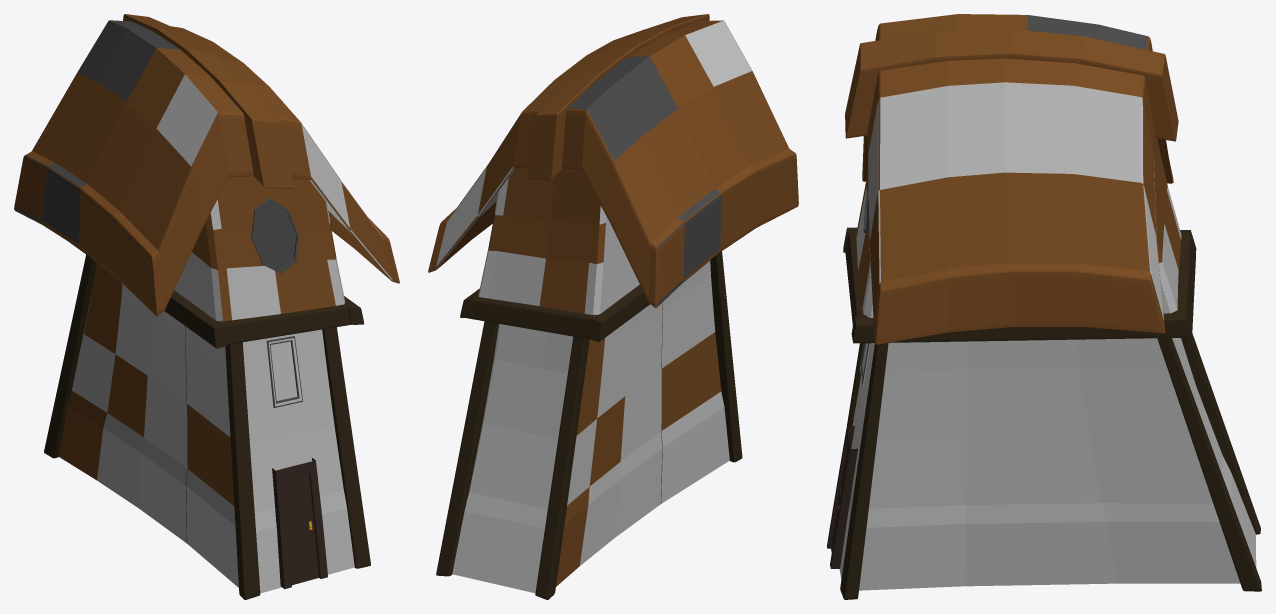
Rendered from house_b.fbx.
3 renders of one model, left to right at view 1: azimuth 30°, elevation 25°; view 2: azimuth 150°, elevation 25°; view 3: azimuth 270°, elevation 25°, orthographic. The views are drawn at different scales.
Parts seen in each view (by area): view 1: house_b; view 2: house_b; view 3: house_b.
Part boxes in pixels (x1,y1,x2,y2): house_b: [14, 14, 399, 599]; house_b: [428, 14, 798, 599]; house_b: [827, 14, 1261, 599].
Bounding box in the file's own units: 73.38 × 136 × 103.
